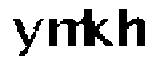h: (116, 6, 149, 49)
k: (82, 4, 113, 49)
m: (46, 17, 96, 52)
y: (9, 15, 44, 57)
